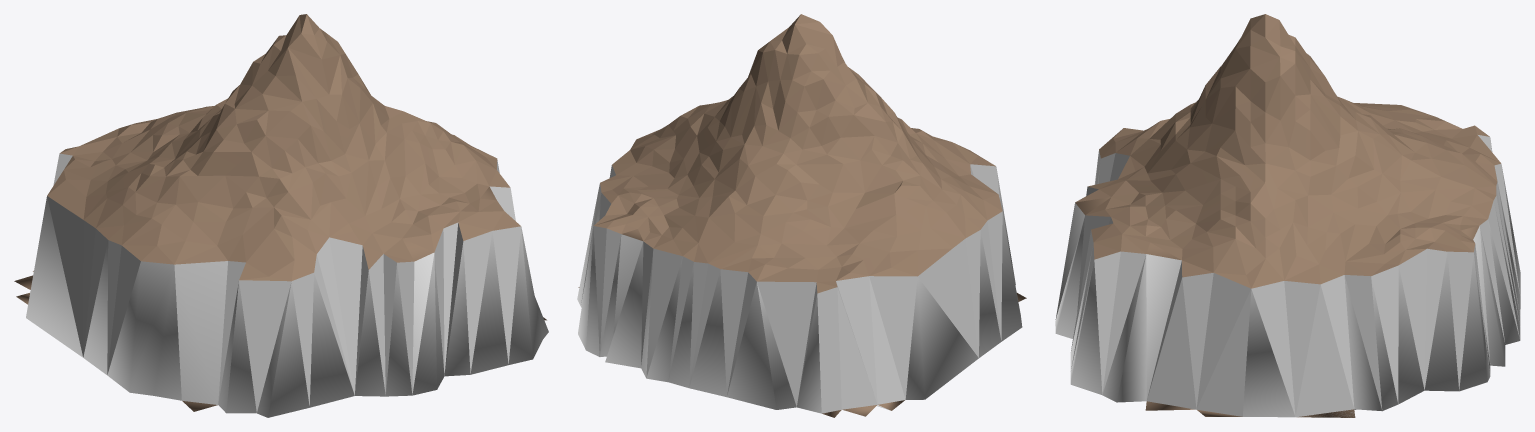
File: Mountain_04.fbx
The picture shows the model from 3 angles, left to right: view 1: azimuth 30°, elevation 25°; view 2: azimuth 150°, elevation 25°; view 3: azimuth 270°, elevation 25°; orthographic projection. The views are drawn at different scales.
Parts seen in each view (by area): view 1: Mountain_04; view 2: Mountain_04; view 3: Mountain_04.
Part boxes in pixels (x1,y1,x2,y2): Mountain_04: (14, 14, 548, 417); Mountain_04: (577, 14, 1026, 417); Mountain_04: (1055, 14, 1520, 417).
Size of the model in its own units: 17634 by 13050 by 17646.
